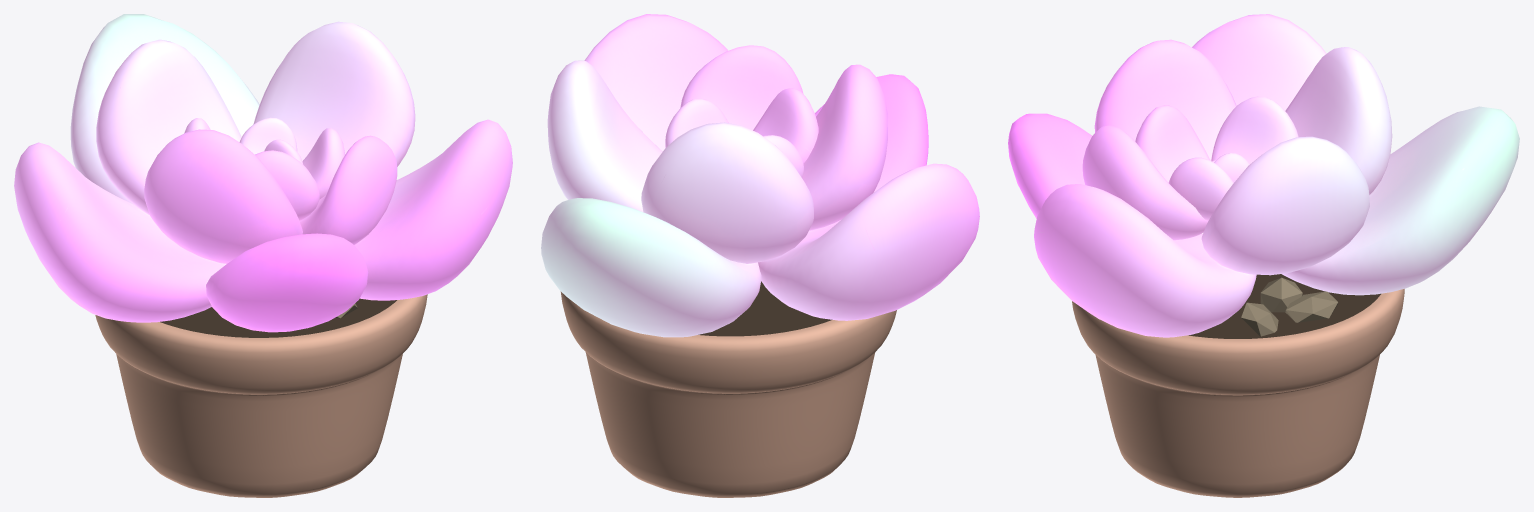
Rendered from succulent.glb.
3 renders of one model, left to right at view 1: azimuth 30°, elevation 25°; view 2: azimuth 150°, elevation 25°; view 3: azimuth 270°, elevation 25°, orthographic.
Parts seen in each view (by area): view 1: Cube.001, Cylinder, Cylinder.001; view 2: Cube.001, Cylinder, Cylinder.001; view 3: Cube.001, Cylinder, Cylinder.001, Icosphere.002, Icosphere, Icosphere.001.
Boxes of the visible parts, x1,y1,x2,y2 form: Cube.001: (14,14,512,332); Cylinder: (95,294,427,497); Cylinder.001: (160,298,396,337); Cube.001: (541,14,979,337); Cylinder: (560,291,896,497); Cylinder.001: (698,281,832,336); Cube.001: (1008,14,1519,337); Cylinder: (1072,289,1404,497); Cylinder.001: (1188,274,1380,338); Icosphere.002: (1285,291,1338,322); Icosphere: (1260,277,1302,312); Icosphere.001: (1241,302,1278,336).
Size of the model in its own units: 603 by 510 by 629.
4 materials, 1 textured.
